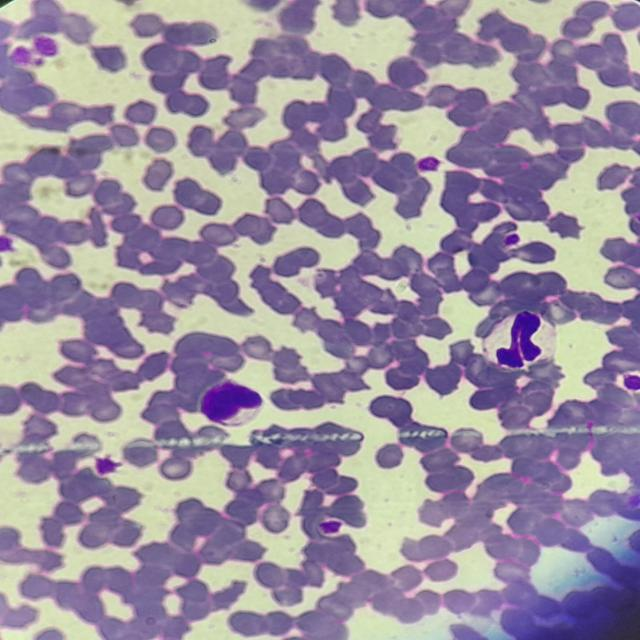Neutrofilo: (490, 310, 555, 368)
